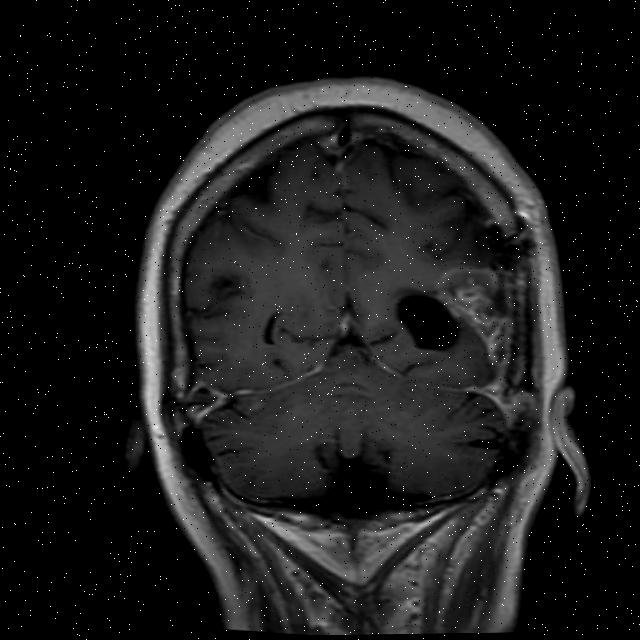Glioma: (431, 263, 517, 374)
